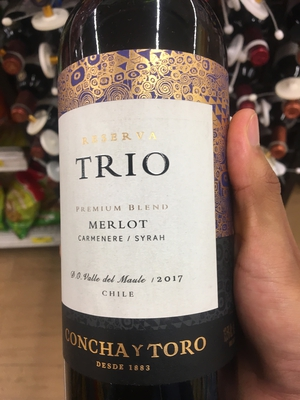trio merlot: (47, 17, 250, 400)
